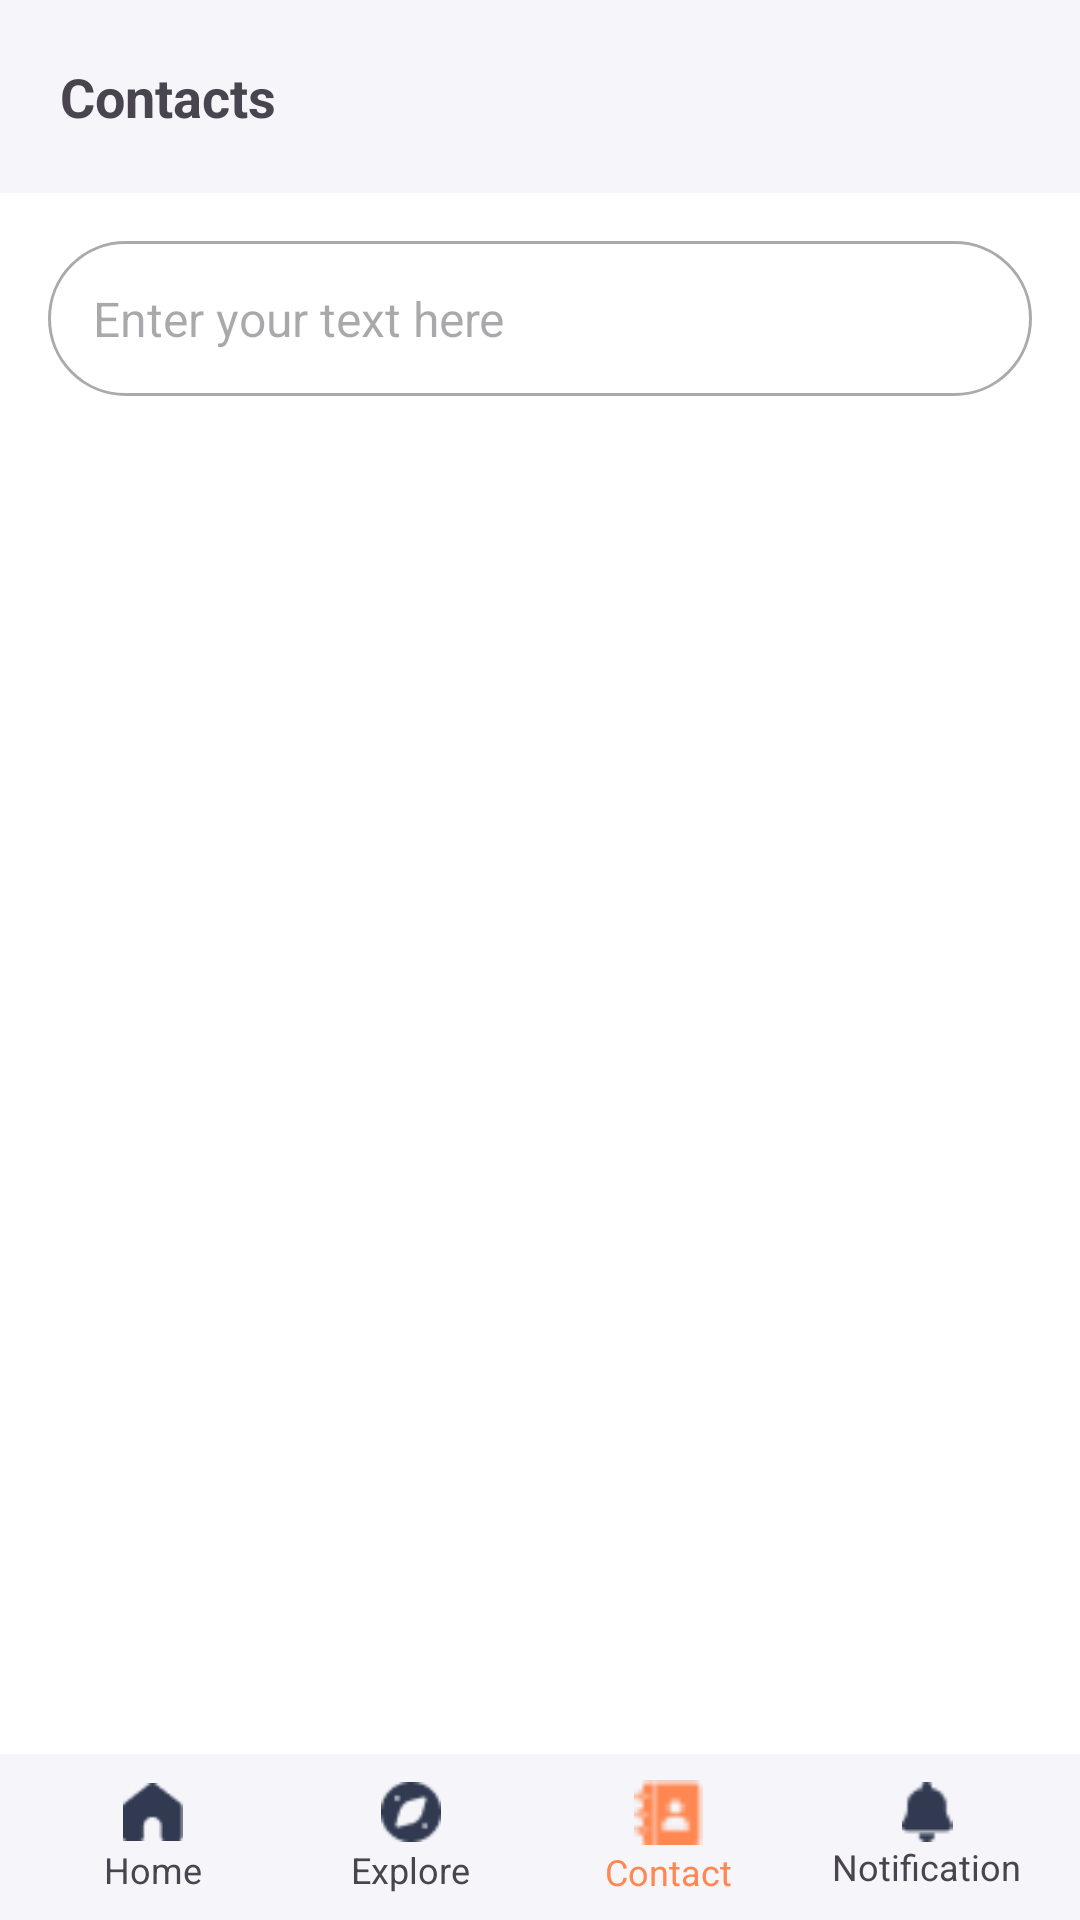

Icon click points for this 1080px×1920px phone screenshot, format (x=x, y=y):
alert: (x=927, y=1812)
